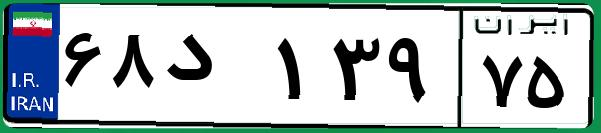1: (270, 28, 330, 110)
3: (330, 28, 385, 110)
5: (525, 38, 570, 115)
6: (57, 26, 110, 100)
7: (475, 38, 525, 113)
8: (110, 28, 158, 98)
9: (385, 28, 445, 110)
د: (158, 20, 270, 120)
